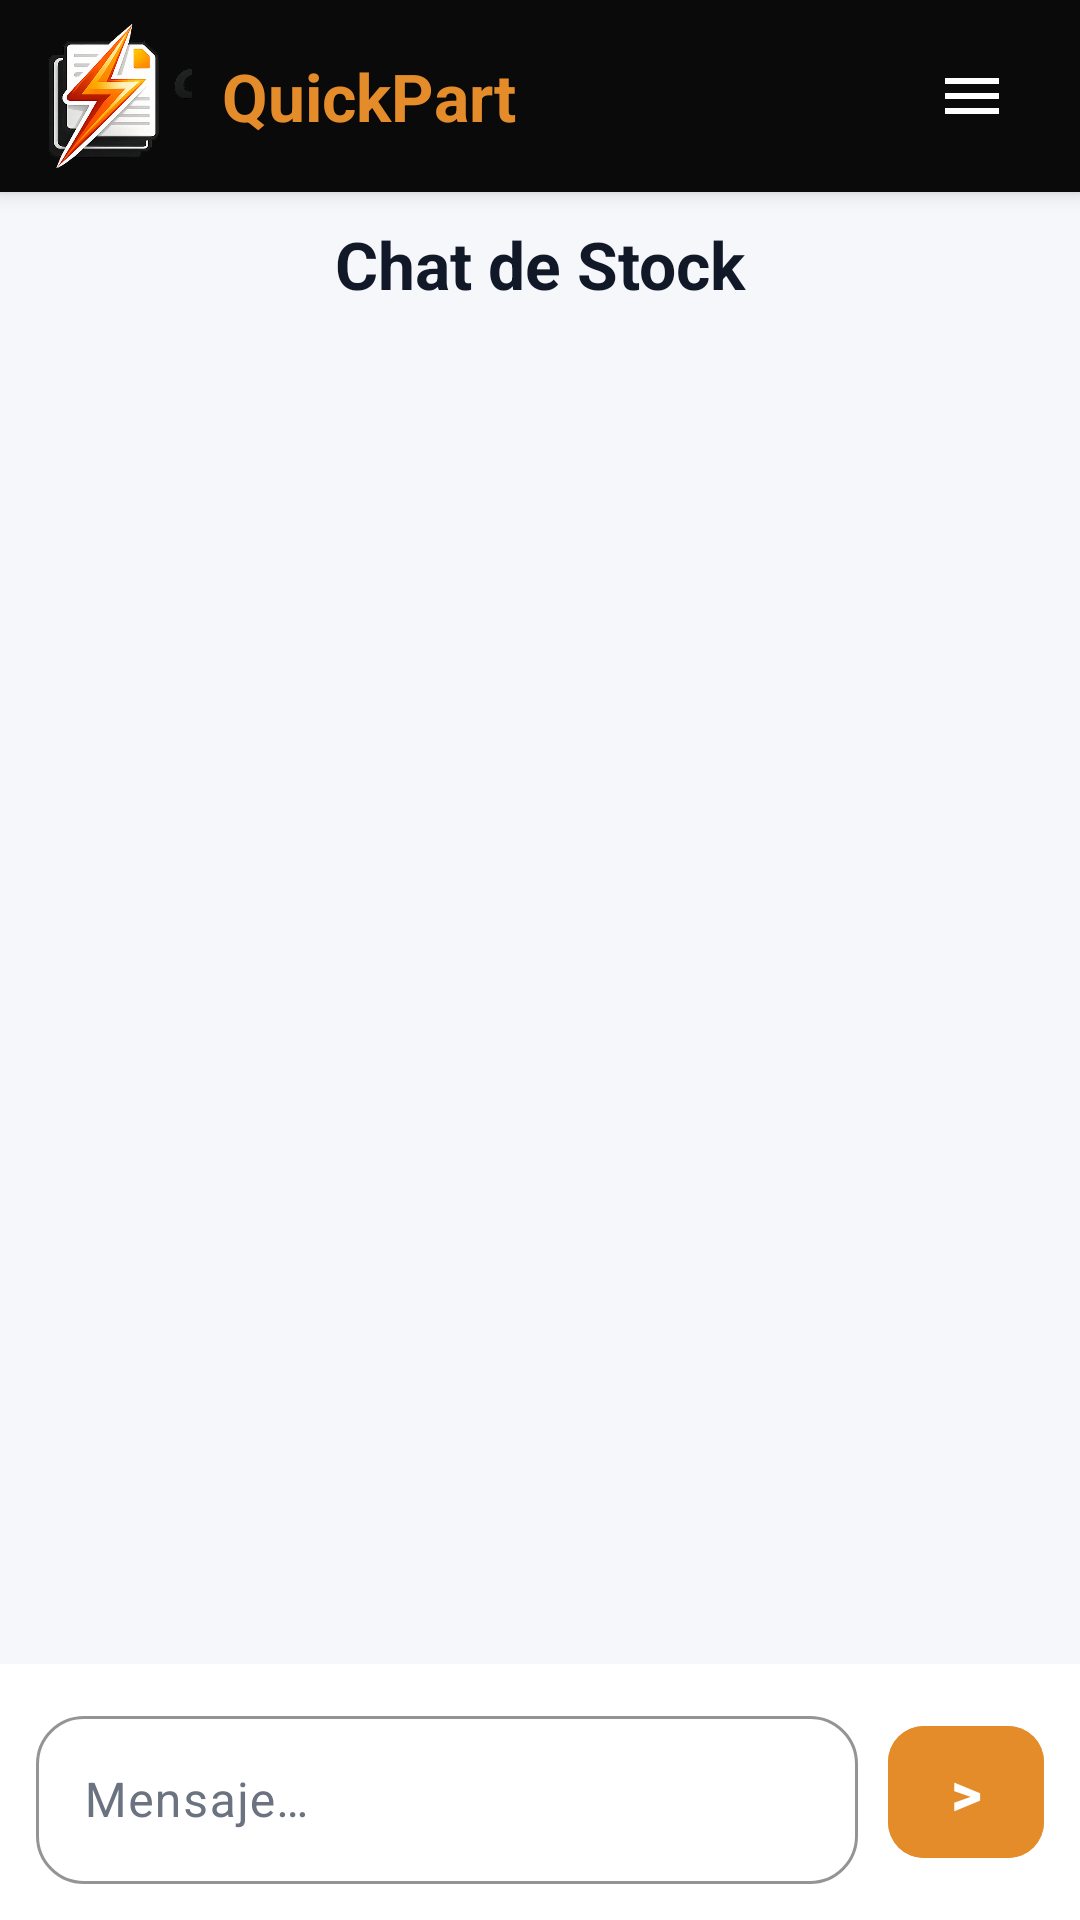

Screen size 1080*1920. Icon name, then its center in pixels as [x,y]:
Menu: [972,96]
